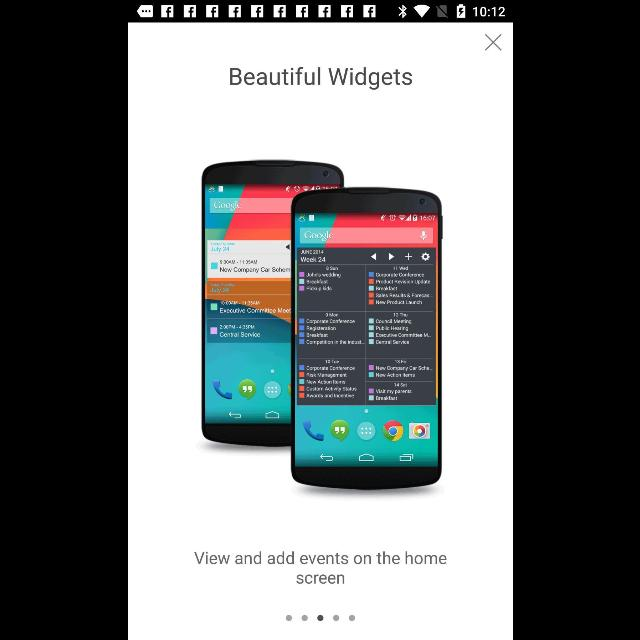icon: (483, 34, 501, 50)
image: (200, 160, 442, 490)
pageindicator: (284, 614, 356, 622)
text: (194, 550, 446, 586), (229, 66, 411, 90)
uppertaskbar: (128, 1, 512, 23)
